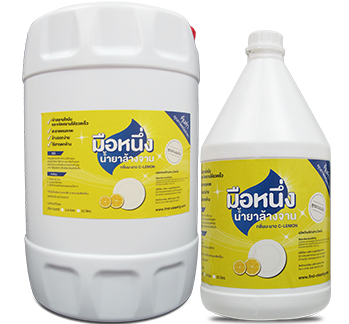Cleaning_solution: (20, 1, 201, 324), (198, 26, 334, 324)
